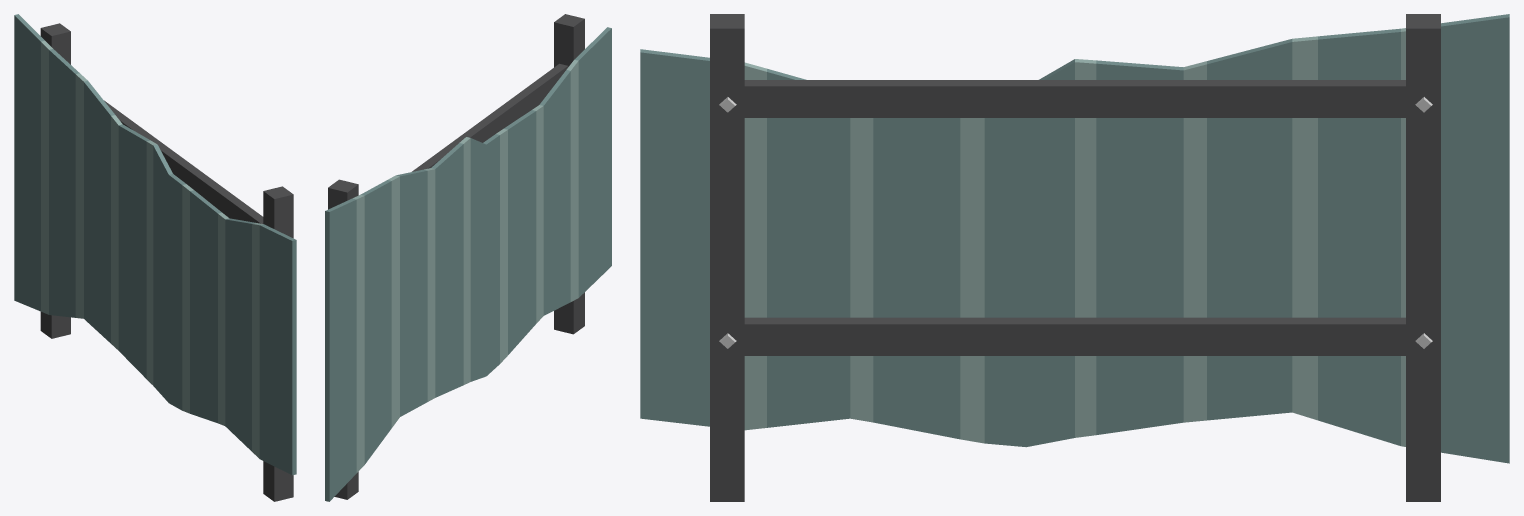
The model's file is SM_Fence_Metal_2.fbx.
The picture shows the model from 3 angles, left to right: view 1: azimuth 30°, elevation 25°; view 2: azimuth 150°, elevation 25°; view 3: azimuth 270°, elevation 25°; orthographic projection. The views are drawn at different scales.
Parts seen in each view (by area): view 1: SM_Fence_Metal_2_LOD0; view 2: SM_Fence_Metal_2_LOD0; view 3: SM_Fence_Metal_2_LOD0.
Part boxes in pixels (<box>): SM_Fence_Metal_2_LOD0: <box>14,14,296,501</box>; SM_Fence_Metal_2_LOD0: <box>325,14,611,501</box>; SM_Fence_Metal_2_LOD0: <box>640,14,1509,501</box>.
Bounding box in the file's own units: 26.11 × 499 × 300.
Materials: 1 (1 with a texture image).
